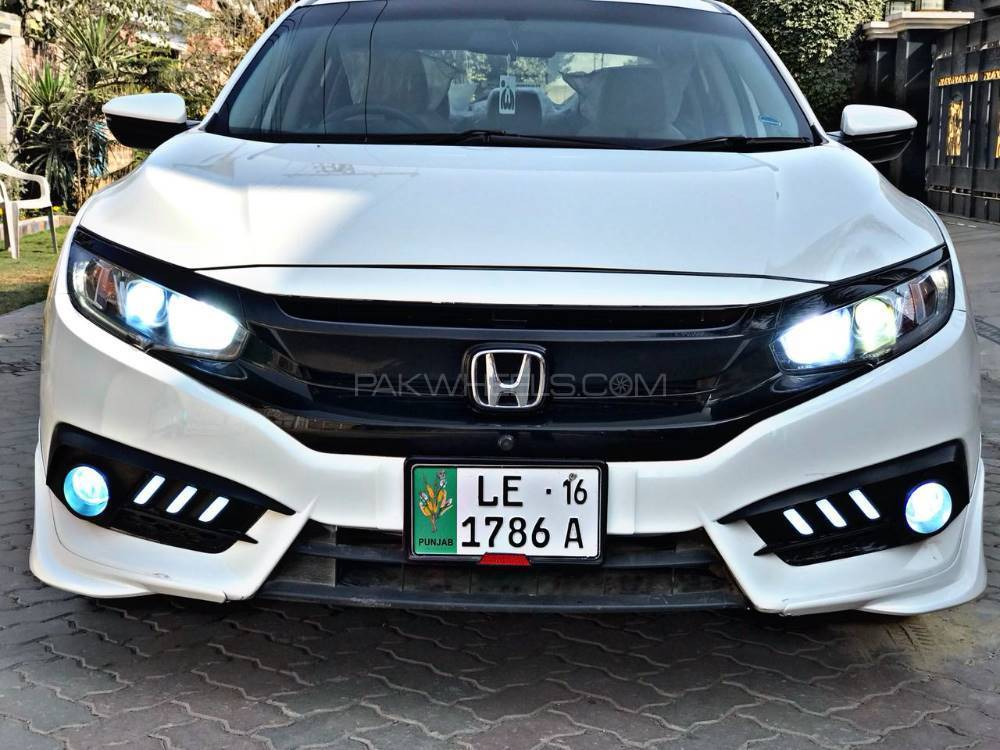plate: (398, 454, 611, 571)
